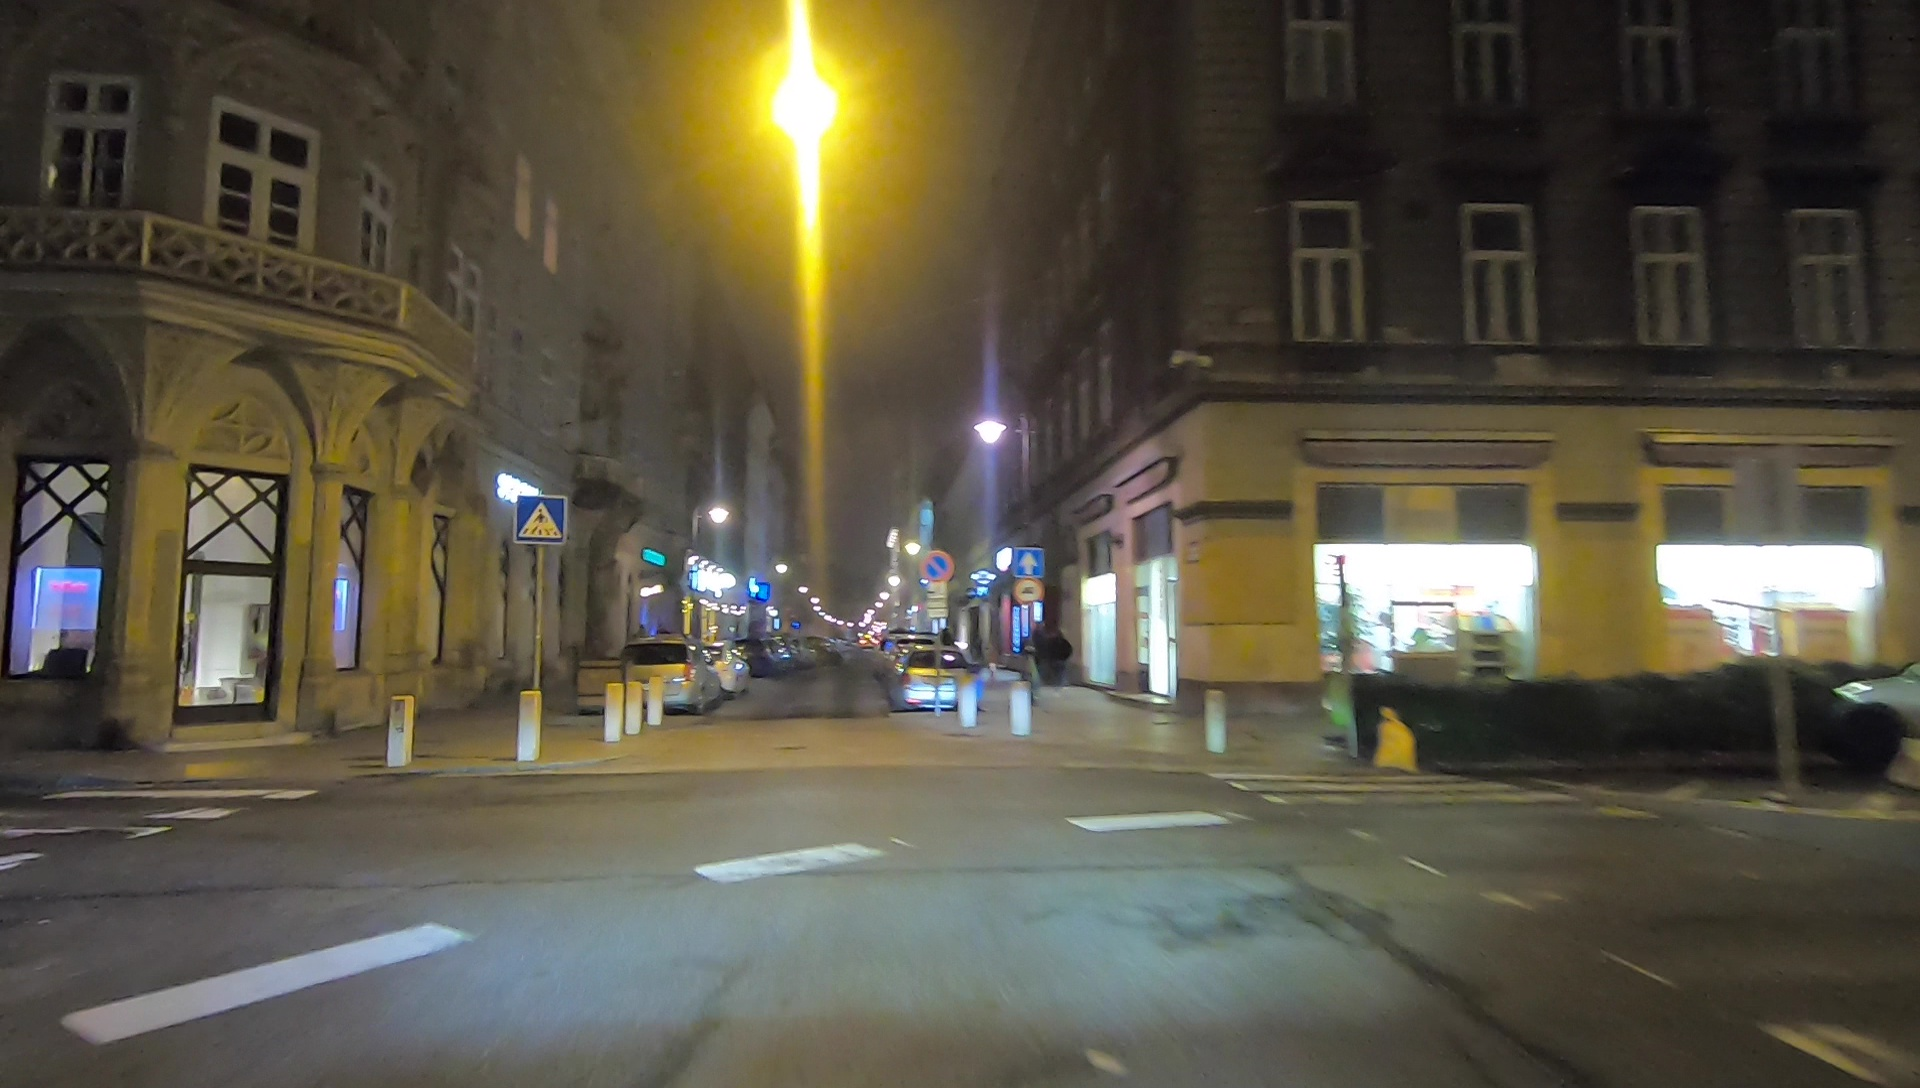person: (1026, 617, 1049, 691), (1047, 623, 1071, 684)
